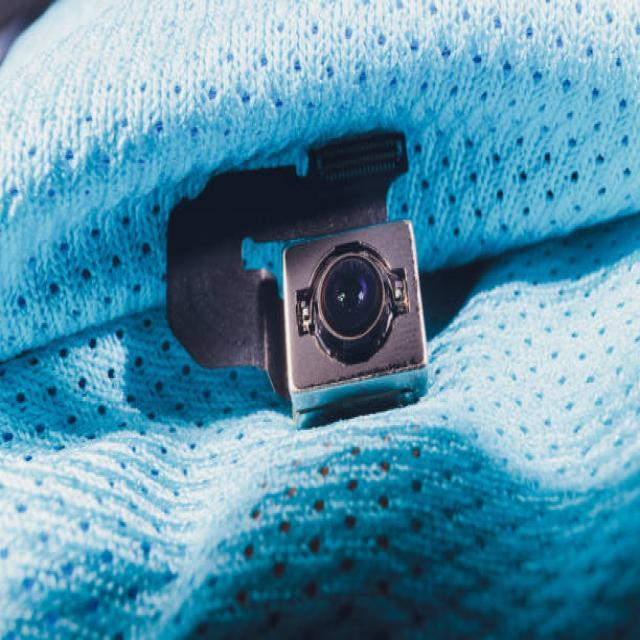hidden camera: (322, 256, 387, 331)
